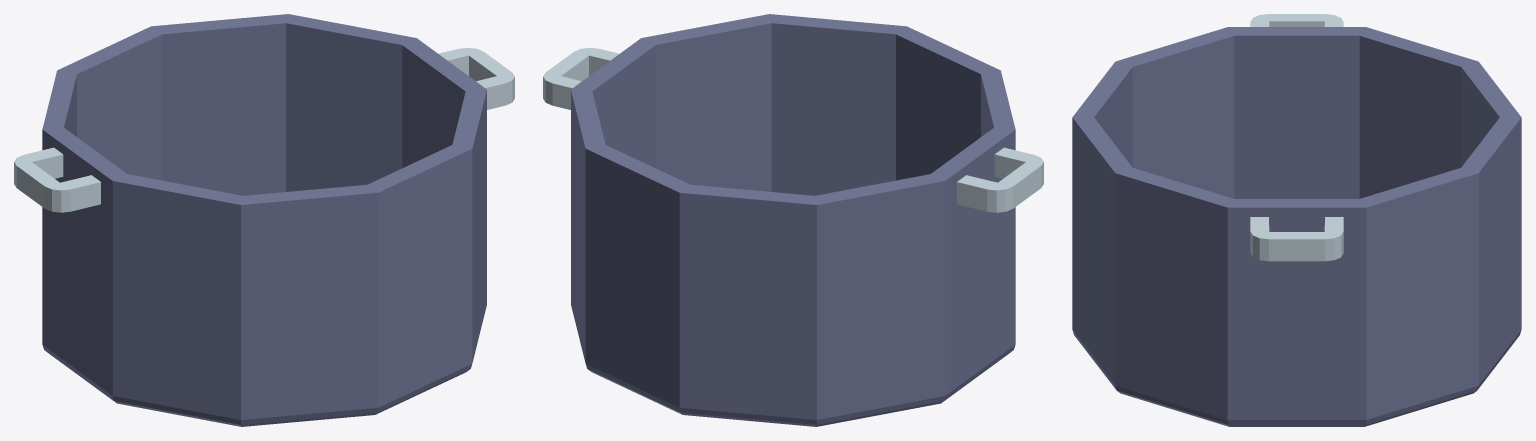
File: pot.fbx
The picture shows the model from 3 angles, left to right: view 1: azimuth 30°, elevation 25°; view 2: azimuth 150°, elevation 25°; view 3: azimuth 270°, elevation 25°; orthographic projection.
Parts seen in each view (by area): view 1: Cylinder, Cube.001, Cube; view 2: Cylinder, Cube.001, Cube; view 3: Cylinder, Cube, Cube.001.
Part boxes in pixels (box(x1,y1,x2,y2)): Cylinder: box(42, 14, 486, 426); Cube.001: box(14, 147, 100, 212); Cube: box(438, 47, 514, 109); Cylinder: box(571, 14, 1015, 426); Cube.001: box(957, 147, 1043, 212); Cube: box(543, 47, 619, 109); Cylinder: box(1072, 27, 1521, 426); Cube: box(1250, 217, 1343, 261); Cube.001: box(1250, 14, 1343, 26).
Bounding box in the file's own units: 237 × 110 × 200.
